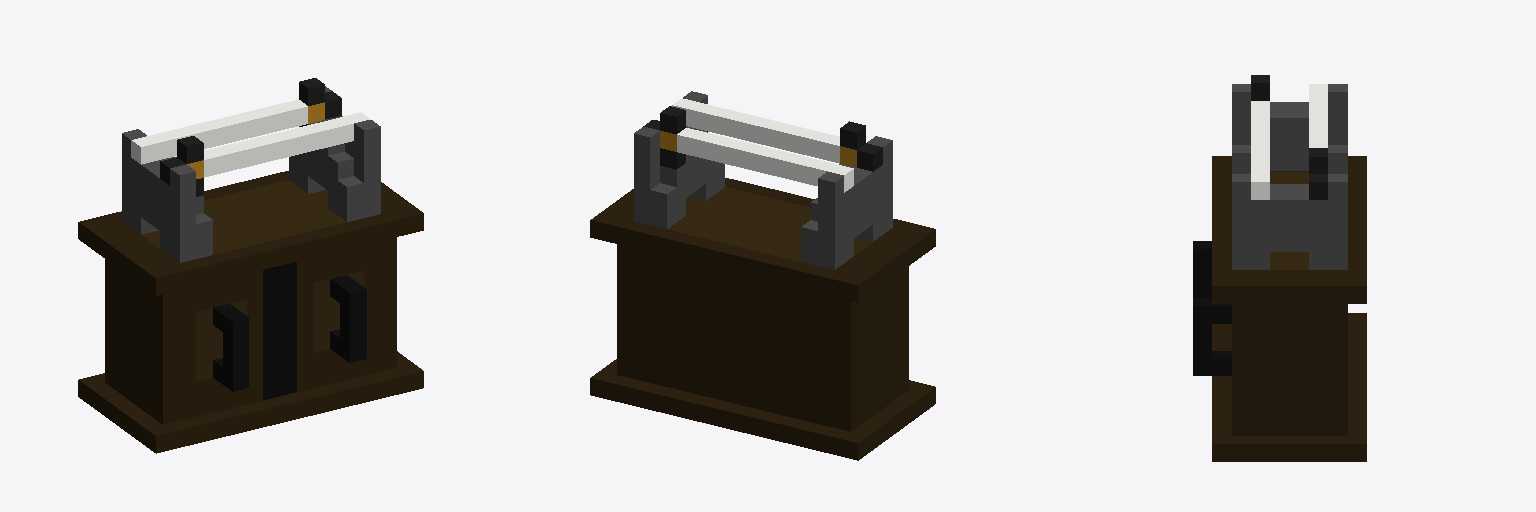
3 views of the same model, side by side, from view 1: azimuth 30°, elevation 25°; view 2: azimuth 150°, elevation 25°; view 3: azimuth 270°, elevation 25° (orthographic).
Parts seen in each view (by area): view 1: Mesh; view 2: Mesh; view 3: Mesh.
Part boxes in pixels (left/top/right/bottom): Mesh: left=78, top=78, right=423, bottom=453; Mesh: left=590, top=91, right=935, bottom=460; Mesh: left=1193, top=75, right=1366, bottom=461.
Size of the model in its own units: 1.6 by 1.6 by 0.9.
Materials: 1 (1 with a texture image).